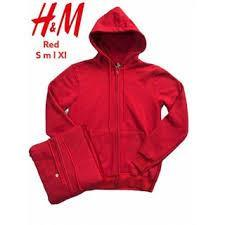sweater: (45, 6, 187, 182)
